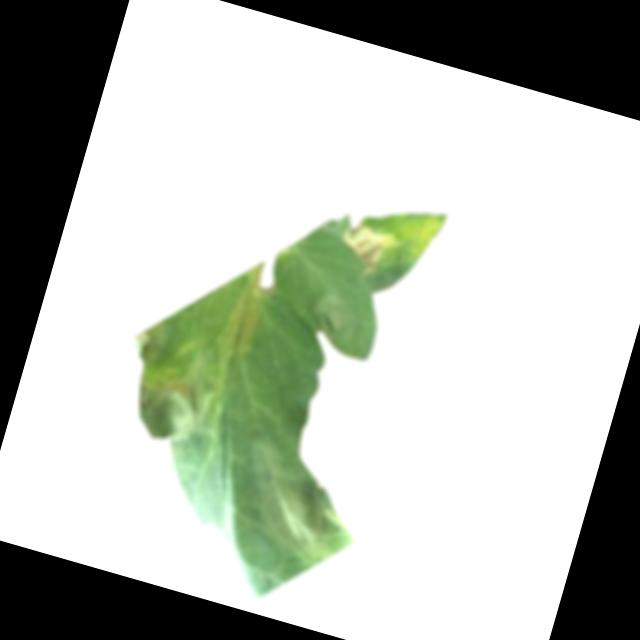Late_blight: (243, 467, 354, 570), (124, 366, 219, 457), (332, 216, 391, 281), (301, 289, 359, 345), (127, 312, 179, 368)
